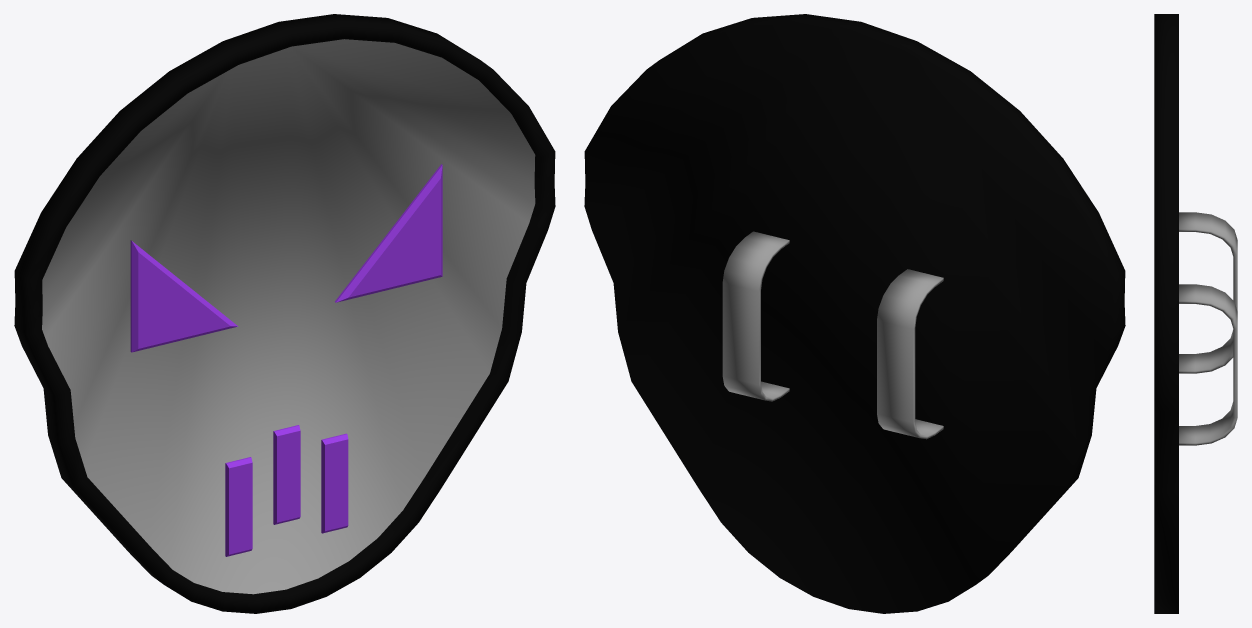
Rendered from Curse Shield.fbx.
3 views of the same model, side by side, from view 1: azimuth 30°, elevation 25°; view 2: azimuth 150°, elevation 25°; view 3: azimuth 270°, elevation 25° (orthographic). The views are drawn at different scales.
Visible parts, largest first — view 1: Shield, Shield Eyes, Shield Mouth; view 2: Shield, Plane; view 3: Shield, Plane.
Boxes of the visible parts, x1,y1,x2,y2 form: Shield: (14, 14, 555, 613); Shield Eyes: (130, 164, 442, 352); Shield Mouth: (225, 425, 348, 556); Shield: (584, 14, 1125, 613); Plane: (722, 231, 943, 439); Shield: (1154, 14, 1178, 613); Plane: (1179, 212, 1237, 445).
Size of the model in its own units: 87.84 by 91.81 by 12.55.
